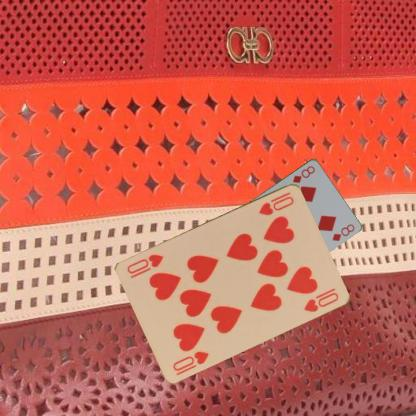10h: (170, 348, 210, 376), (256, 189, 295, 217)
8d: (290, 163, 316, 184)
